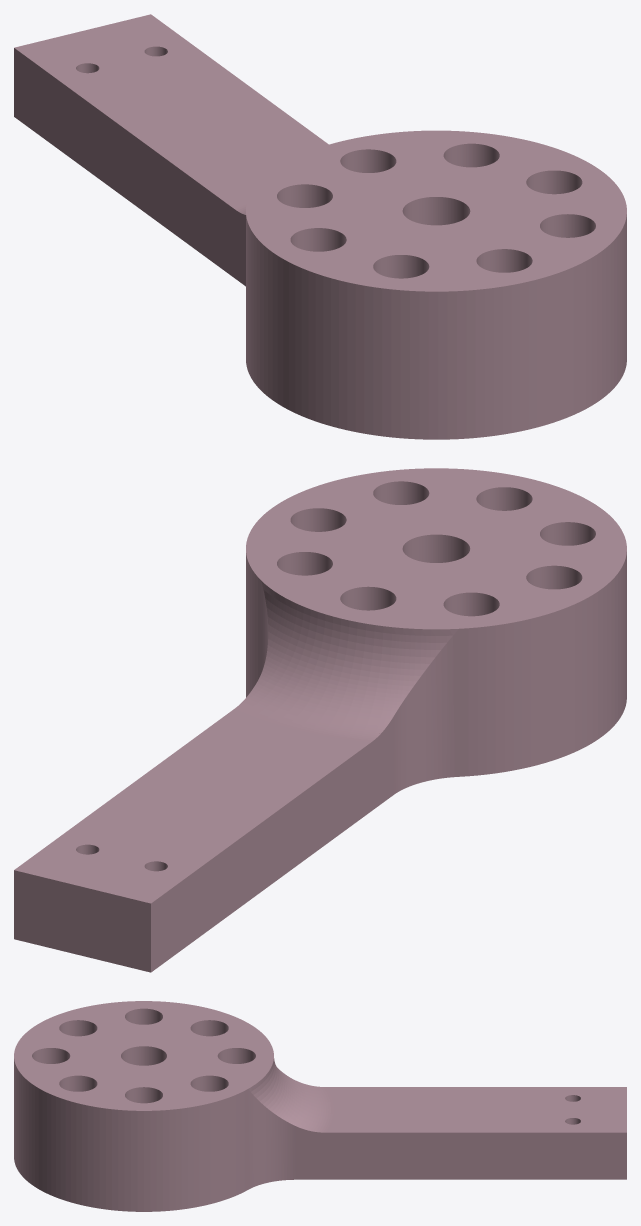
The model's file is CameraHolder.dae.
3 renders of one model, top to bottom at view 1: azimuth 30°, elevation 25°; view 2: azimuth 150°, elevation 25°; view 3: azimuth 270°, elevation 25°, orthographic. The views are drawn at different scales.
Visible parts, largest first — view 1: node0; view 2: node0; view 3: node0.
Part boxes in pixels (x1,y1,x2,y2): node0: [14, 14, 626, 439]; node0: [14, 468, 626, 972]; node0: [14, 1001, 626, 1211].
Size of the model in its own units: 0.07 by 0.165 by 0.03.
